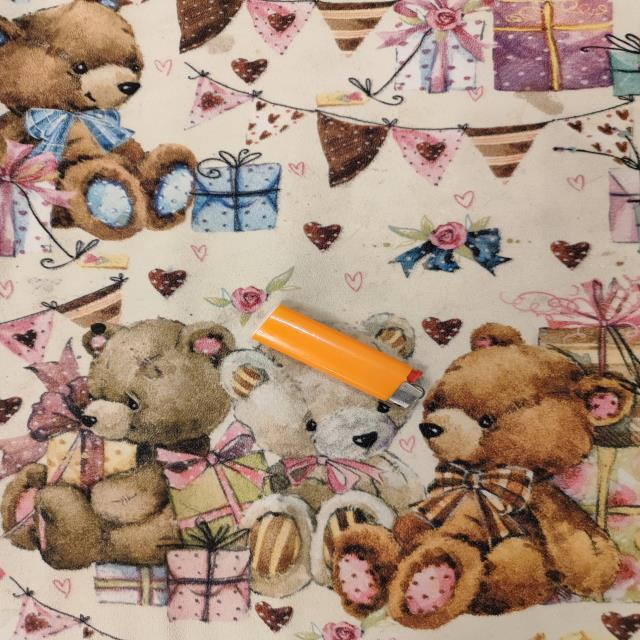lighter: (252, 304, 420, 407)
